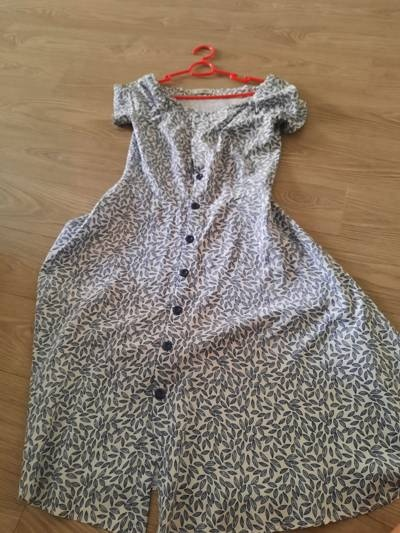Dress: (7, 48, 396, 521)
